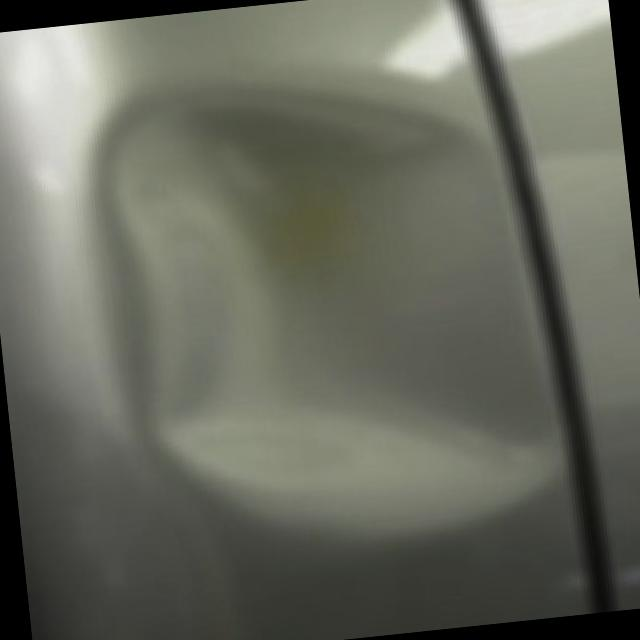dent: (92, 63, 578, 569)
